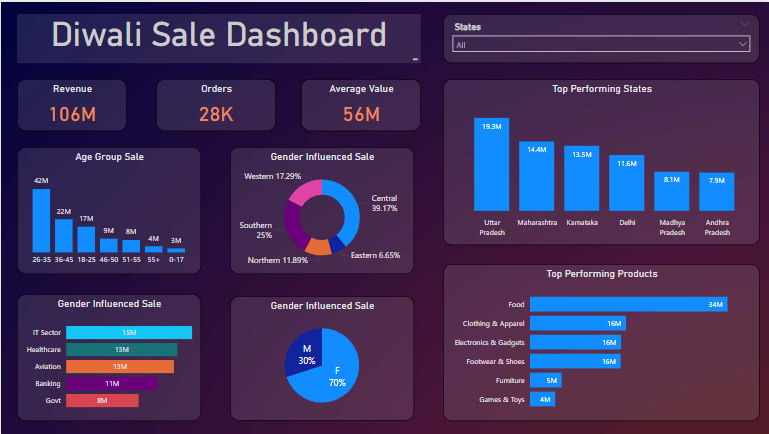

The dashboard page shown, as its layout file describes it:
{"tool":"powerbi","page":{"name":"Page 2","canvas":[1280,720],"ordinal":0},"visuals":[{"type":"clusteredColumnChart","title":"Top Performing States","fields":{"Category":["Diwali Sales Data.State"],"Y":["Sum(Diwali Sales Data.Amount)"]},"box":[736.7,128.3,528.3,276.7],"z":0},{"type":"barChart","title":"Top Performing Products","fields":{"Category":["Diwali Sales Data.Product_Category"],"Y":["Sum(Diwali Sales Data.Amount)"]},"box":[736.7,436.7,528.3,261.7],"z":1000},{"type":"pieChart","title":"Gender Influenced Sale","fields":{"Y":["Sum(Diwali Sales Data.Amount)"],"Series":["Diwali Sales Data.Gender"]},"box":[381.7,490,306.7,208.3],"z":2000},{"type":"donutChart","title":"Gender Influenced Sale","fields":{"Y":["Sum(Diwali Sales Data.Amount)"],"Series":["Diwali Sales Data.Zone"]},"box":[381.7,241.7,306.7,211.7],"z":3000},{"type":"card","title":"Orders","fields":{"Values":["Sum(Diwali Sales Data.Orders)"]},"box":[258.3,128.3,200,86.7],"z":4000},{"type":"card","title":"Revenue","fields":{"Values":["Sum(Diwali Sales Data.Amount)"]},"box":[26.7,128.3,183.3,86.7],"z":5000},{"type":"barChart","title":"Gender Influenced Sale","fields":{"Category":["Diwali Sales Data.Occupation"],"Y":["Sum(Diwali Sales Data.Amount)"],"Series":["Diwali Sales Data.Occupation"]},"box":[26.7,486.7,306.7,211.7],"z":6000},{"type":"columnChart","title":"Age Group Sale","fields":{"Category":["Diwali Sales Data.Age Group"],"Y":["Sum(Diwali Sales Data.Amount)"]},"box":[26.7,241.7,306.7,211.7],"z":7000},{"type":"card","title":"Average Value","fields":{"Values":["Sum(Diwali Sales Data.Average Value)"]},"box":[500,128.3,200,86.7],"z":8000},{"type":"slicer","fields":{"Values":["Diwali Sales Data.State"]},"box":[736.7,20,528.3,81.7],"z":9000},{"type":"textbox","title":"Diwali Sale Dashboard","box":[26.7,20,673.3,81.7],"z":10000}]}

Visuals, with their boxes in screenshot pixels (x1, y1, x2, y2), scaled from the page's 1280x720 canvas onto the 769x434 screenshot:
"Top Performing States" clusteredColumnChart: (443, 77, 760, 244)
"Top Performing Products" barChart: (443, 263, 760, 421)
"Gender Influenced Sale" pieChart: (229, 295, 414, 421)
"Gender Influenced Sale" donutChart: (229, 146, 414, 273)
"Orders" card: (155, 77, 275, 130)
"Revenue" card: (16, 77, 126, 130)
"Gender Influenced Sale" barChart: (16, 293, 200, 421)
"Age Group Sale" columnChart: (16, 146, 200, 273)
"Average Value" card: (300, 77, 421, 130)
slicer - Diwali Sales Data.State: (443, 12, 760, 61)
"Diwali Sale Dashboard" textbox: (16, 12, 421, 61)
